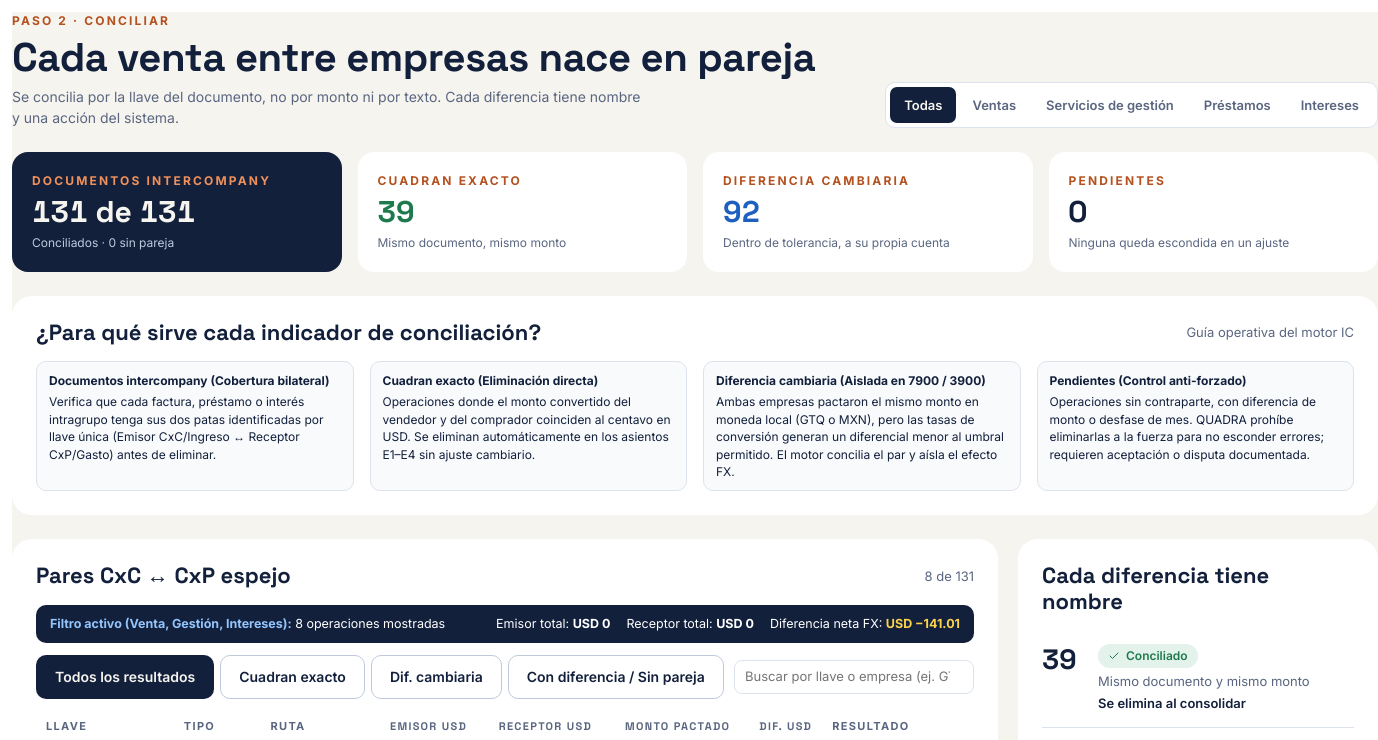
Test: ReconciliationPage › filtra por tipo y lo guarda en la URL
Check: the text "131 de 131" is shown, box [32,192,195,231]
Click the button "Ventas" at x=994, y=105, box [958,87,1030,123]
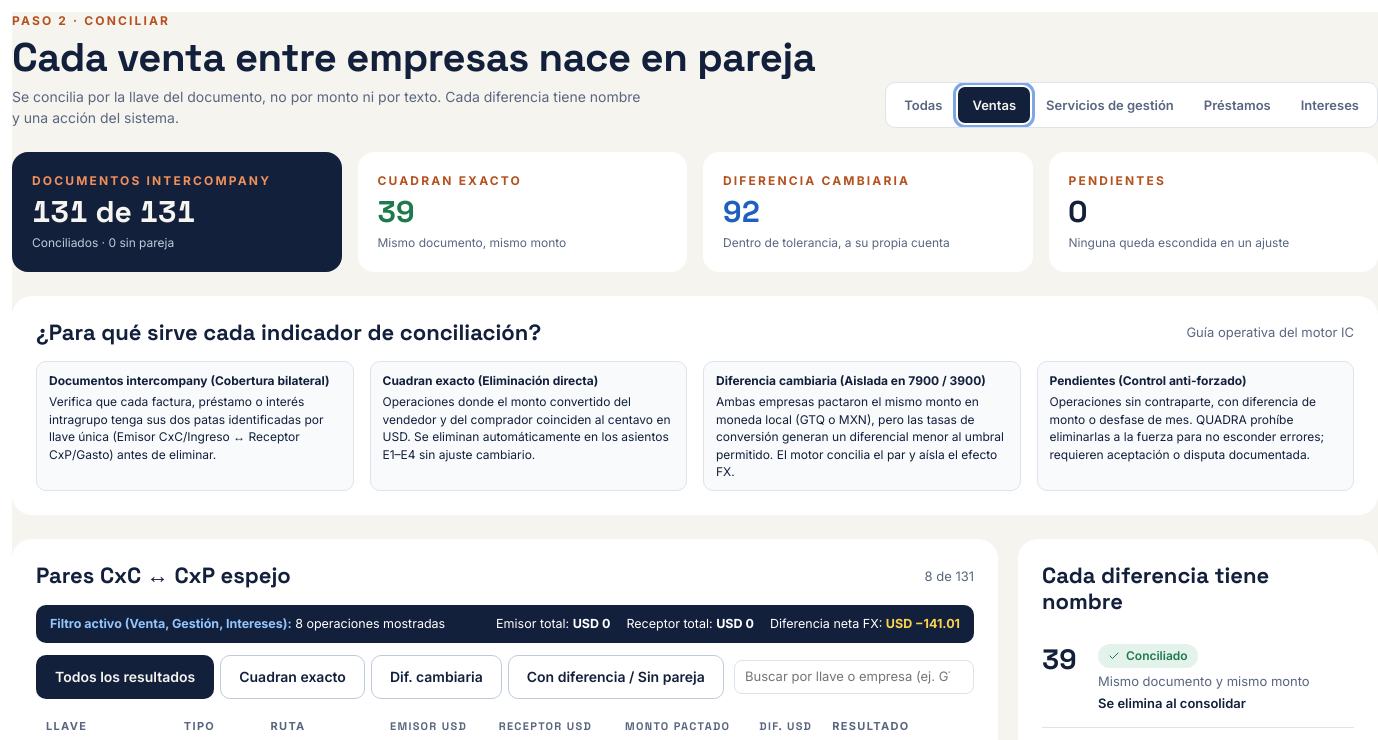
Check: the button "Ventas" is pressed, box [958,87,1030,123]
